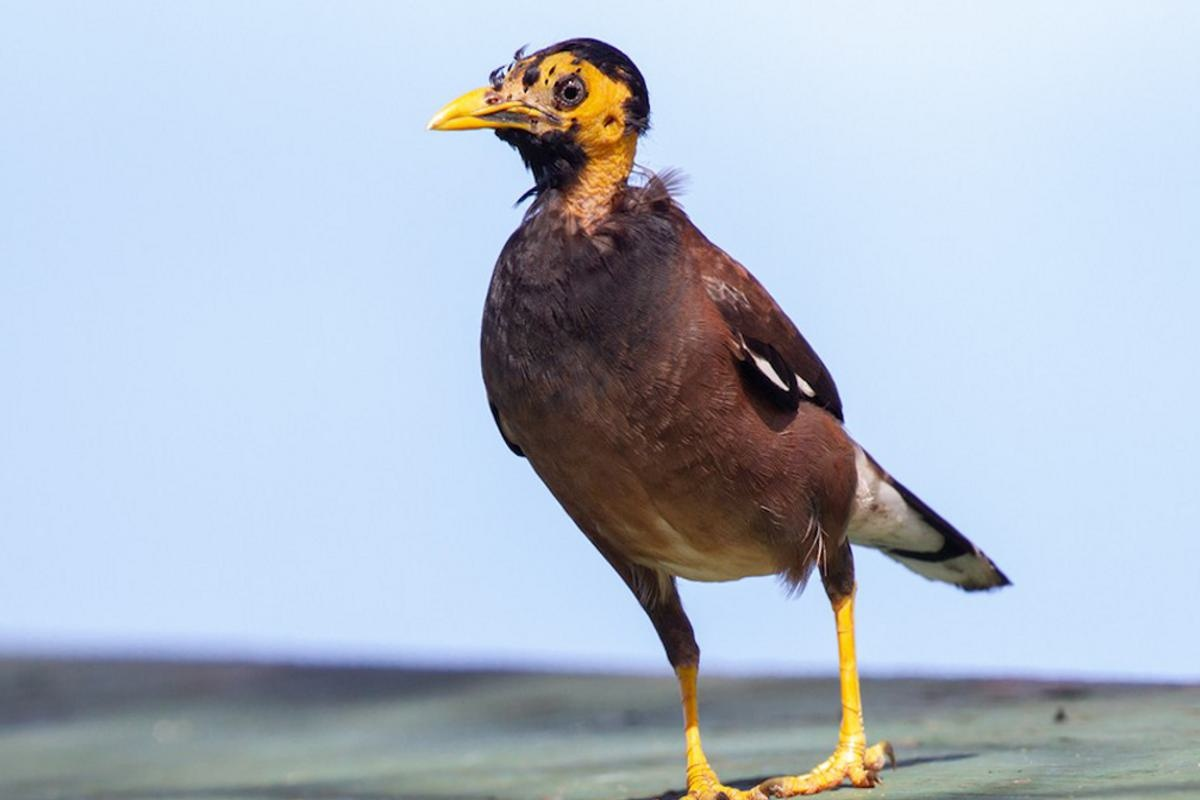myna: (443, 21, 1025, 722)
